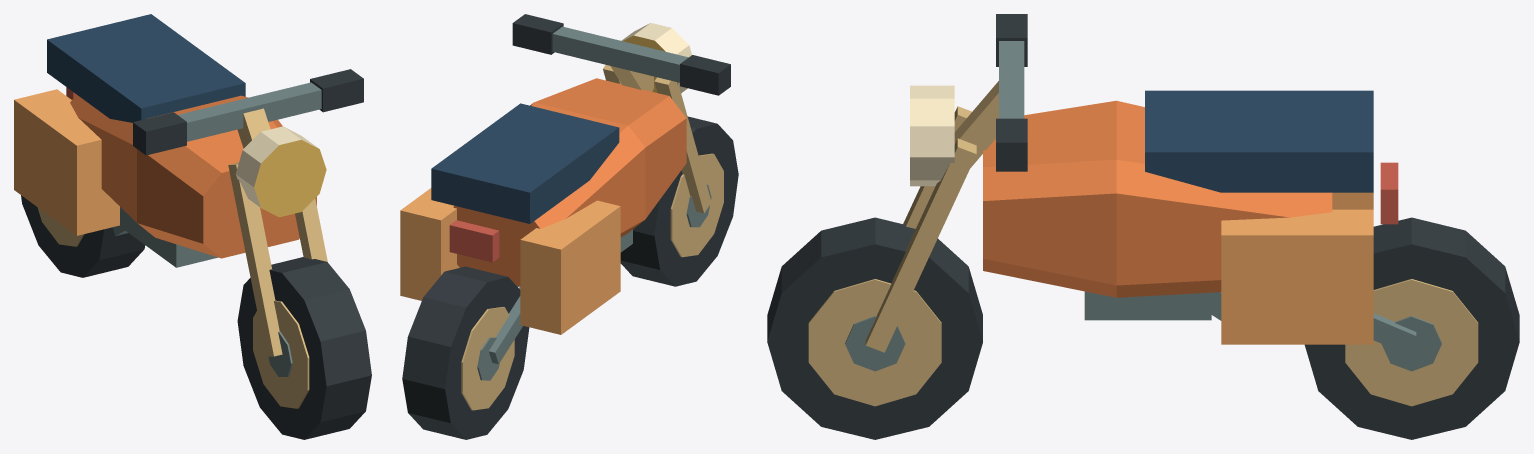
File: motorcycle.glb
3 renders of one model, left to right at view 1: azimuth 30°, elevation 25°; view 2: azimuth 150°, elevation 25°; view 3: azimuth 270°, elevation 25°, orthographic. The views are drawn at different scales.
Parts seen in each view (by area): view 1: motorcycle; view 2: motorcycle; view 3: motorcycle.
Part boxes in pixels (box(x1,y1,x2,y2)): motorcycle: box(14, 14, 371, 439); motorcycle: box(400, 14, 738, 439); motorcycle: box(767, 14, 1519, 439).
Bounding box in the file's own units: 0.96 × 1.21 × 2.37.
Materials: 1 (1 with a texture image).
